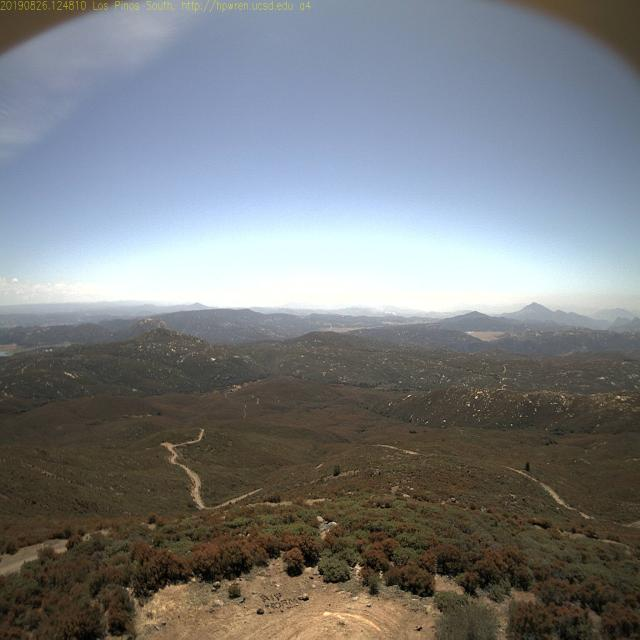smoke: (382, 307, 398, 318)
